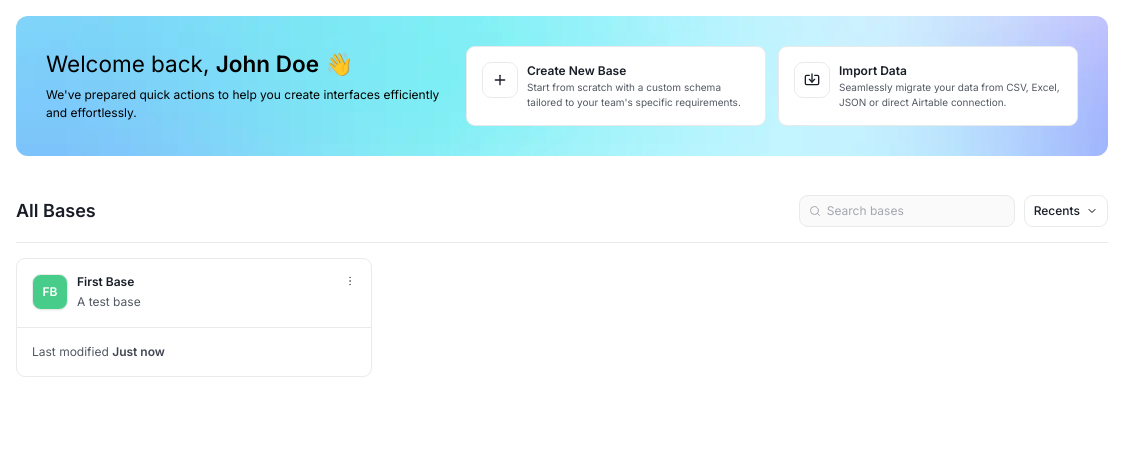
Scenario: HomePage › Search and Filter › should show no results message when search finds nothing
Type "NonexistentBase" into the field with placeholder "Search bases".
click(916, 211); type("NonexistentBase")  # box left=827, top=202, right=1005, bottom=220
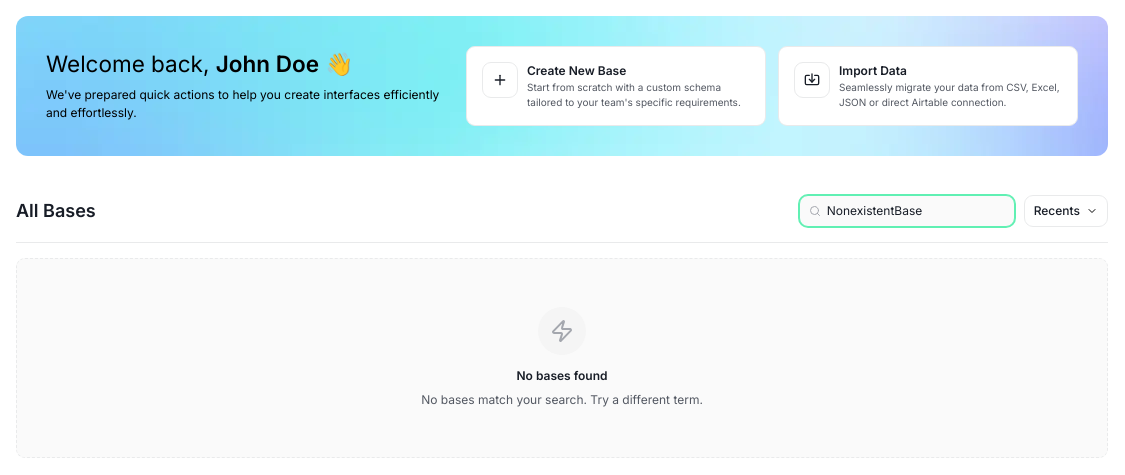
Expected: the text "No bases match your search. Try a different term." is shown, left=421, top=391, right=703, bottom=409
